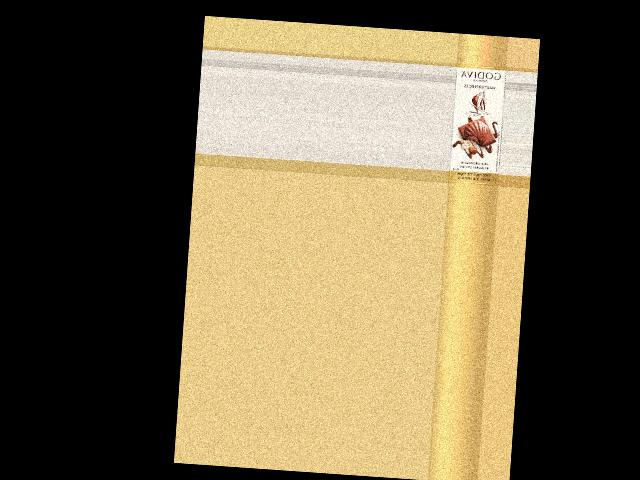chocolate: (448, 63, 505, 185)
